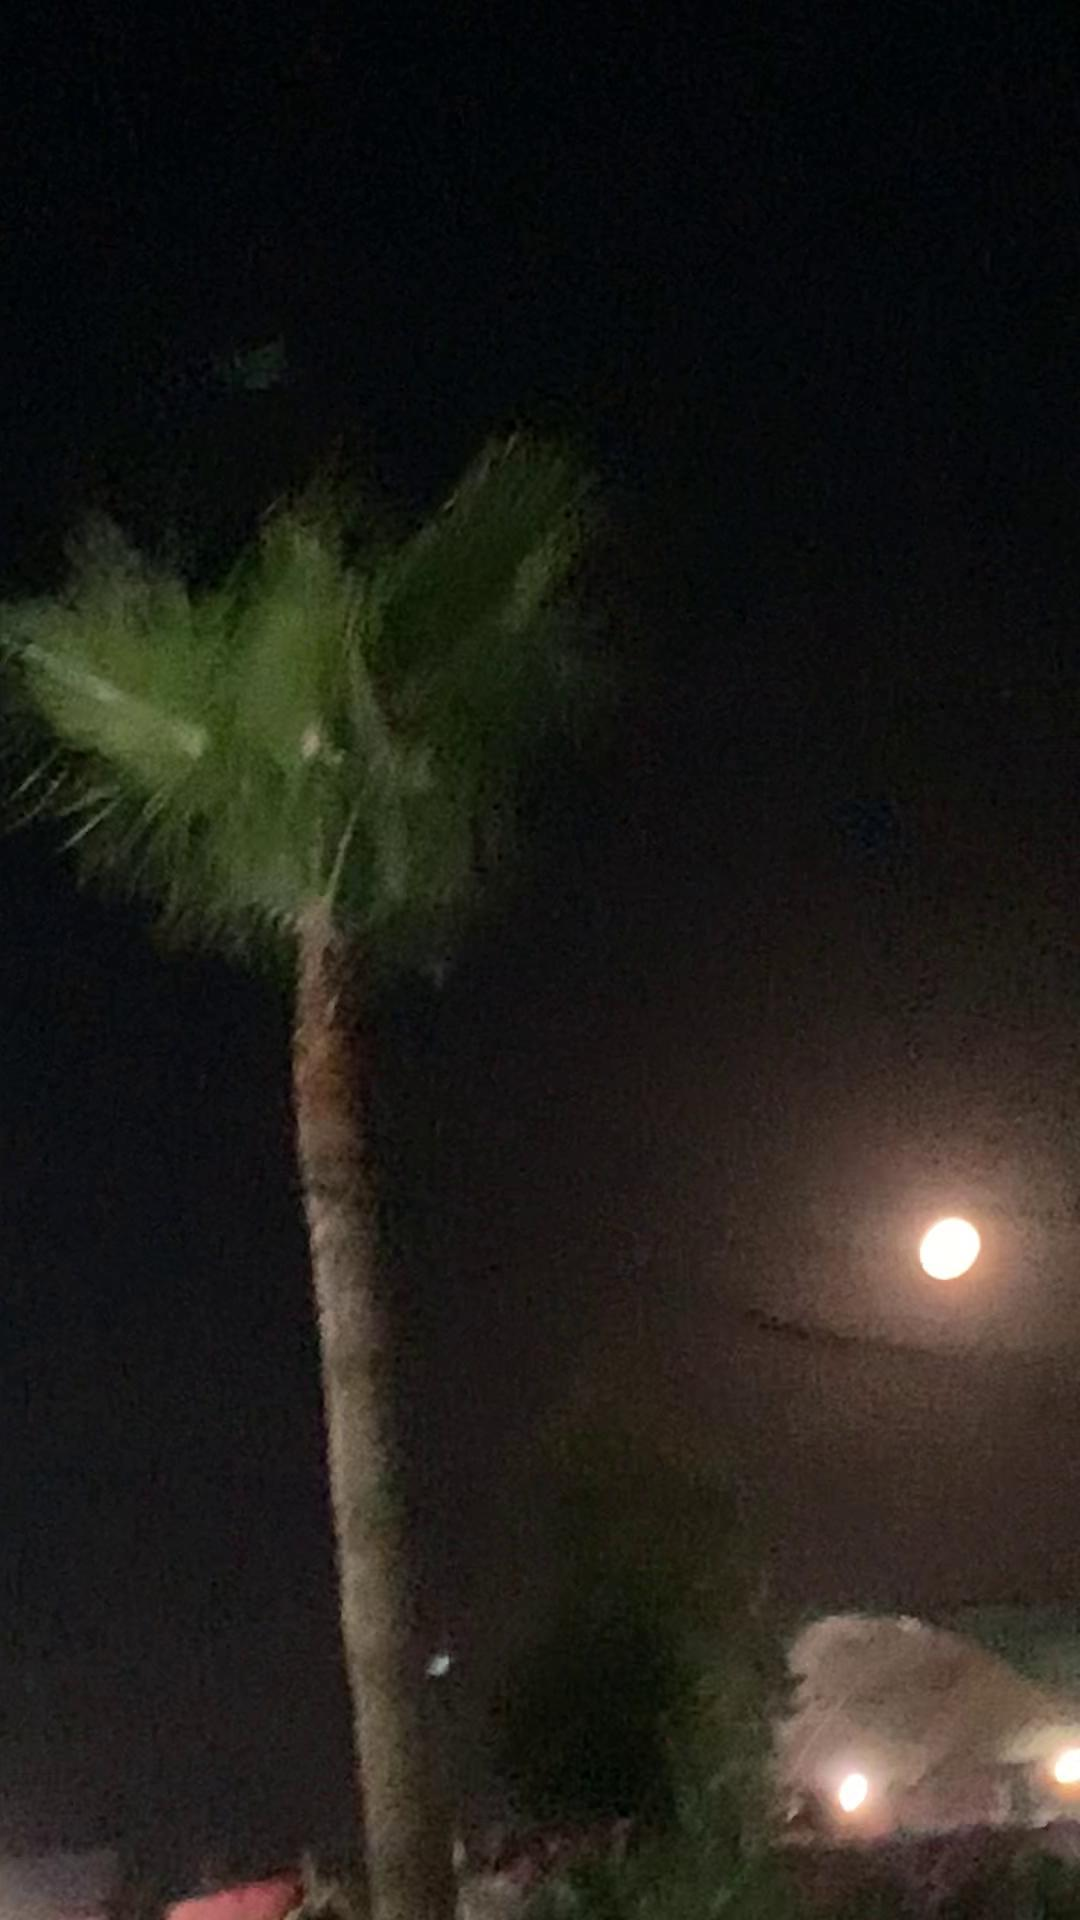moon: (905, 1220, 1004, 1302)
